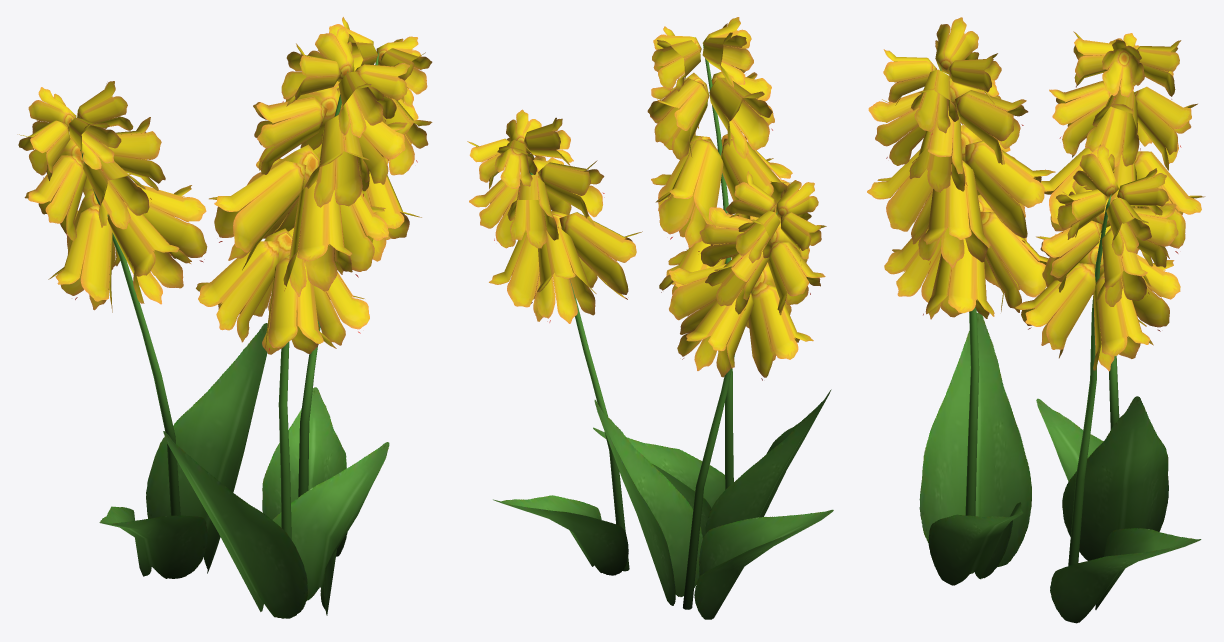
File: Flower_4_Group.glb
3 views of the same model, side by side, from view 1: azimuth 30°, elevation 25°; view 2: azimuth 150°, elevation 25°; view 3: azimuth 270°, elevation 25° (orthographic). The views are drawn at different scales.
Parts seen in each view (by area): view 1: Flower_4_Group; view 2: Flower_4_Group; view 3: Flower_4_Group.
Boxes of the visible parts, <box> form: Flower_4_Group: <box>17,17,432,618</box>; Flower_4_Group: <box>467,17,833,619</box>; Flower_4_Group: <box>867,17,1205,623</box>.
Bounding box in the file's own units: 1.78 × 2.49 × 1.37.
2 materials, 2 textured.
